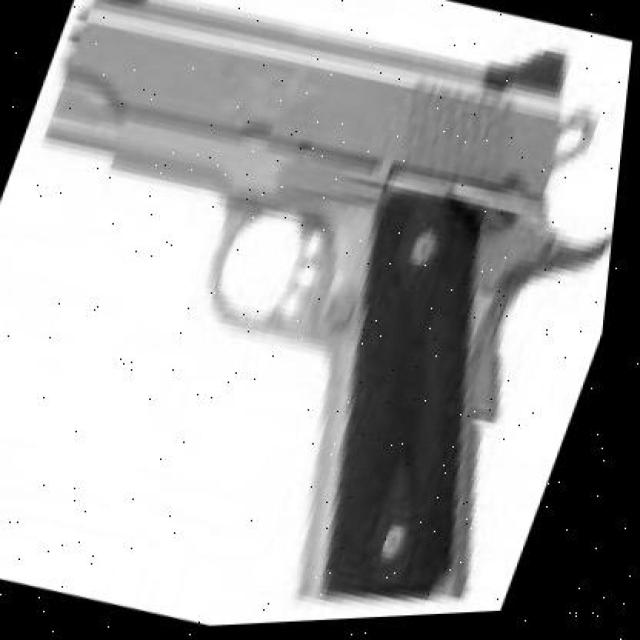weapon: (45, 0, 610, 601)
